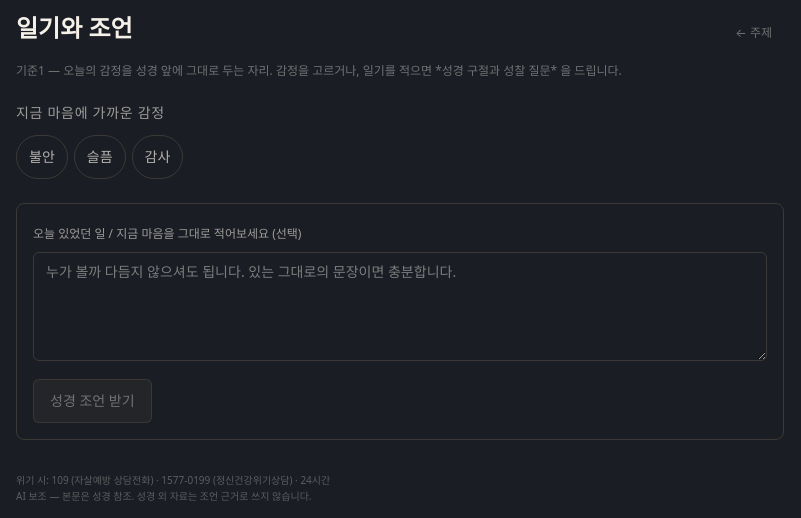
Scenario: /topics/journal — 일기 텍스트로 조언 받기 › 요청 중에는 버튼 문구가 진행 상태로 바뀌고 잠긴다
This screenshot has width=801, height=518.
Type "오늘 하루" into the text box at (400, 306), box [33,252,767,361]
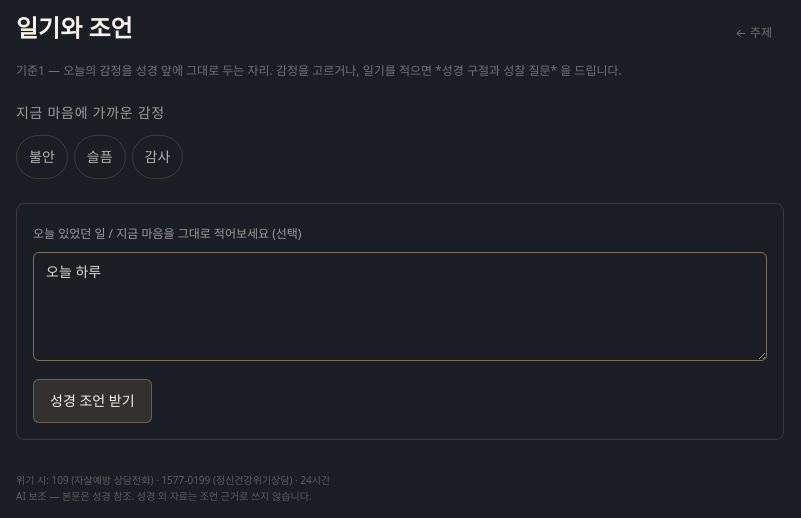
Click the button "성경 조언 받기" at (92, 401), box [33,379,152,423]
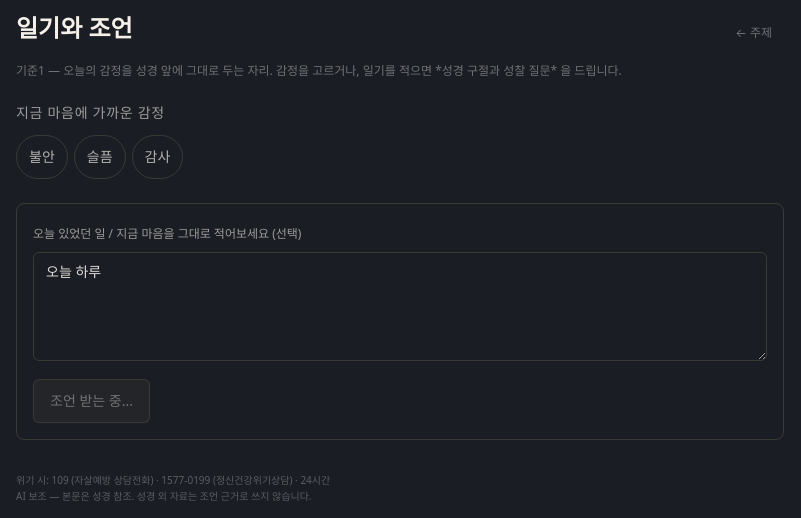
Check: the button "조언 받는 중..." is disabled, box [33,379,150,423]
